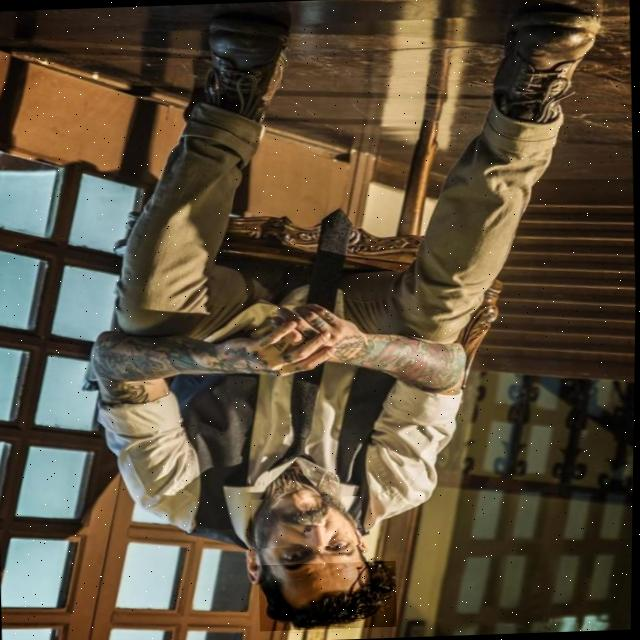beard: (254, 497, 363, 547)
hair: (260, 561, 397, 630)
